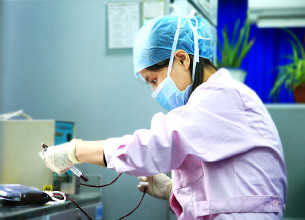face_mask: (139, 50, 194, 116)
